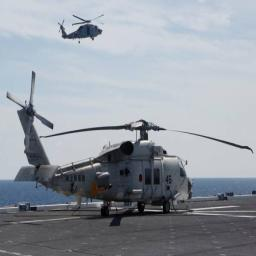helicopter: (8, 68, 246, 228), (56, 9, 110, 50)
